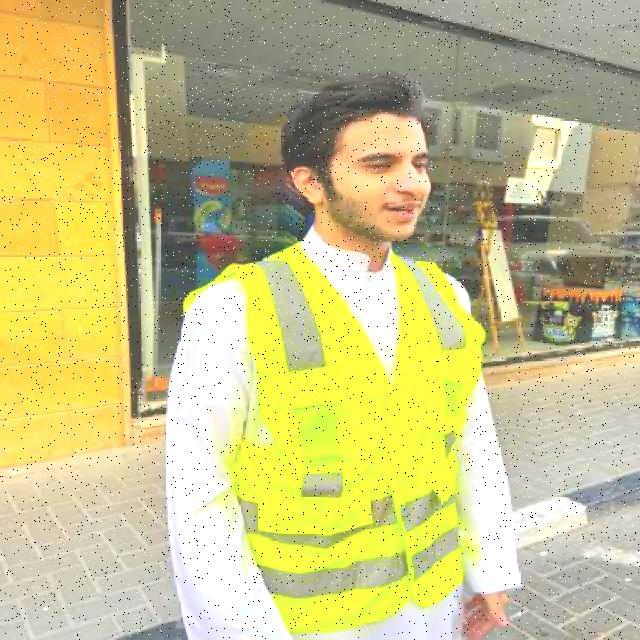Mask: (204, 256, 490, 630)
